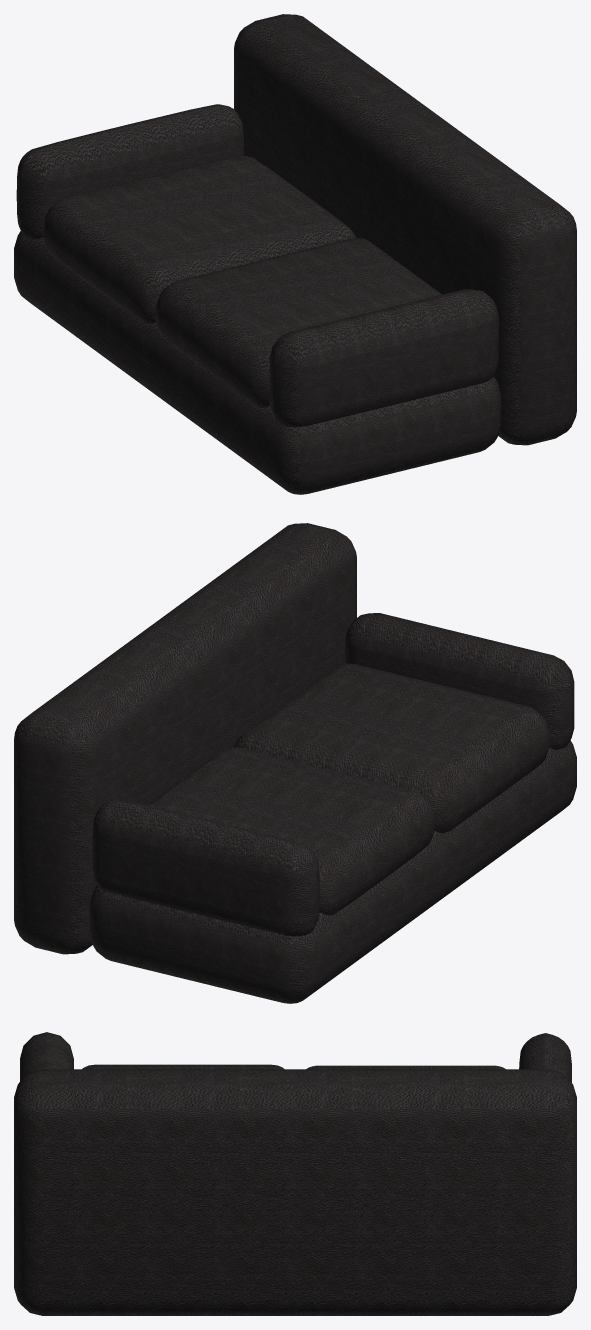
The model's file is sofa.FBX.
3 views of the same model, one above another, from view 1: azimuth 30°, elevation 25°; view 2: azimuth 150°, elevation 25°; view 3: azimuth 270°, elevation 25° (orthographic).
Parts seen in each view (by area): view 1: ChamferBox004, ChamferBox001, ChamferBox002, ChamferBox003, ChamferBox005, ChamferBox006; view 2: ChamferBox004, ChamferBox001, ChamferBox003, ChamferBox002, ChamferBox006, ChamferBox005; view 3: ChamferBox004, ChamferBox005, ChamferBox006, ChamferBox003, ChamferBox002.
Part boxes in pixels (x1,y1,x2,y2): ChamferBox004: (234, 14, 576, 445); ChamferBox001: (14, 231, 501, 494); ChamferBox002: (43, 156, 356, 323); ChamferBox003: (155, 238, 441, 407); ChamferBox005: (269, 289, 498, 426); ChamferBox006: (16, 104, 244, 239); ChamferBox004: (14, 523, 356, 954); ChamferBox001: (89, 740, 576, 1003); ChamferBox003: (234, 663, 549, 833); ChamferBox002: (147, 747, 435, 915); ChamferBox006: (92, 799, 319, 936); ChamferBox005: (345, 613, 574, 749); ChamferBox004: (14, 1069, 576, 1315); ChamferBox005: (20, 1032, 73, 1081); ChamferBox006: (519, 1033, 571, 1082); ChamferBox003: (82, 1064, 284, 1069); ChamferBox002: (306, 1065, 505, 1069).
Size of the model in its own units: 50.18 by 37.44 by 83.74.
1 material, 1 textured.
